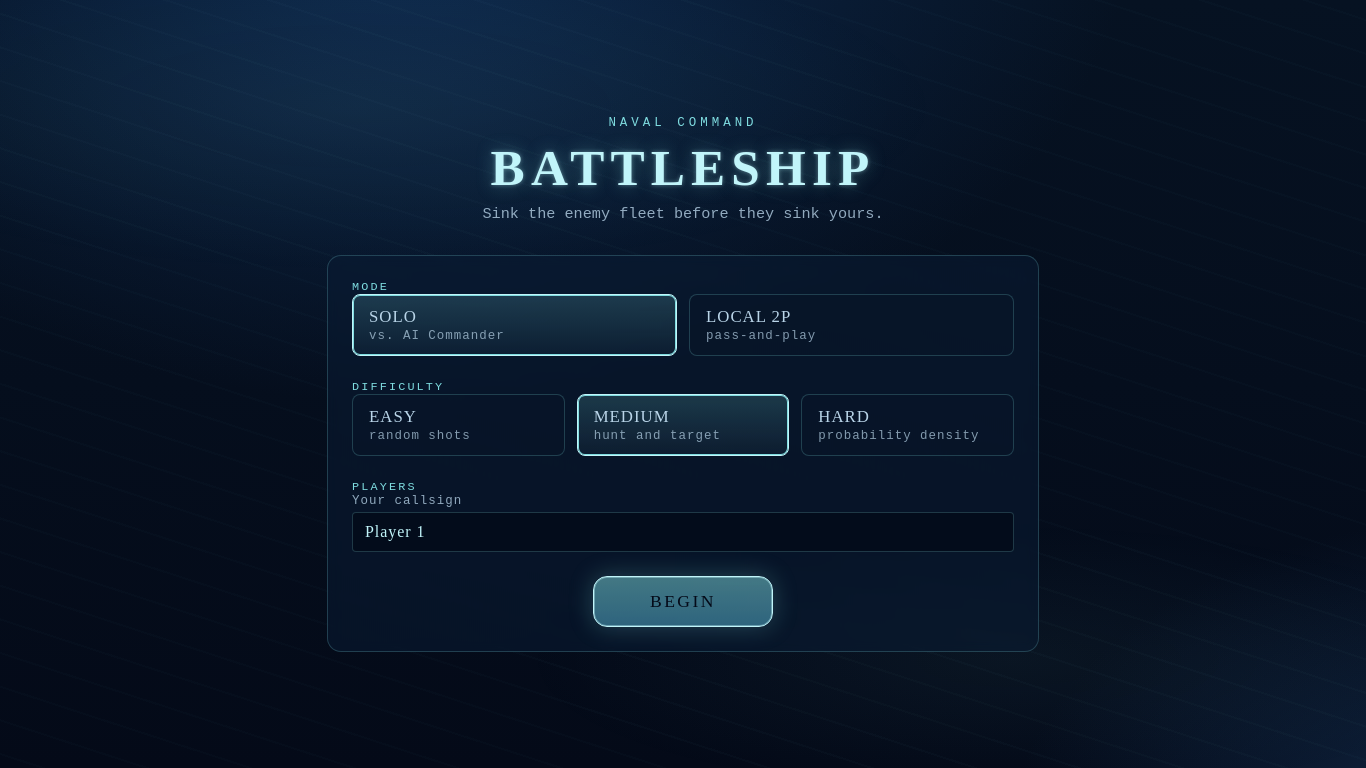
Test: Quit button (QA §5) › PlacementScreen: Quit returns to home with no placement persisted
Click the button with aria-label "begin placement". click: (683, 602)
box: [593,576,773,627]
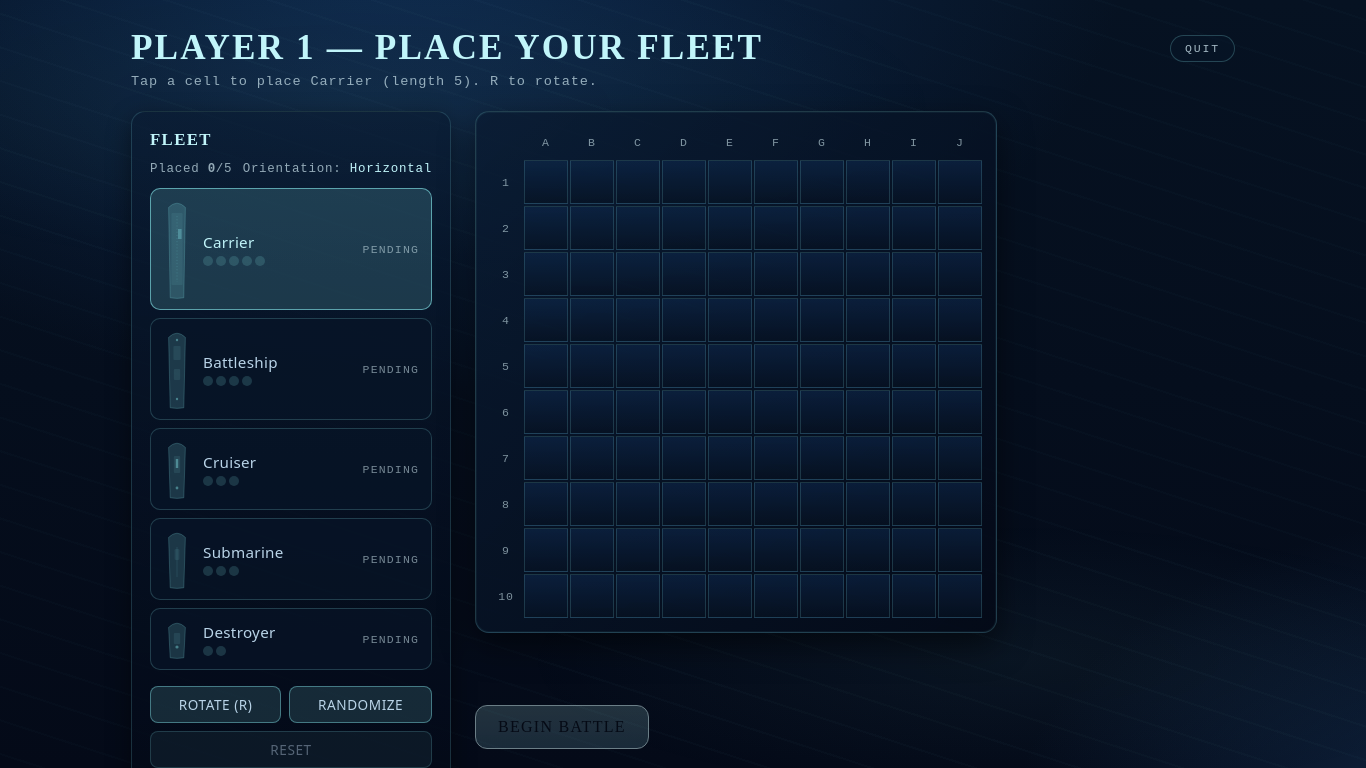
Click the button with aria-label "randomize fleet". click: (361, 704)
box: [289,686,432,723]
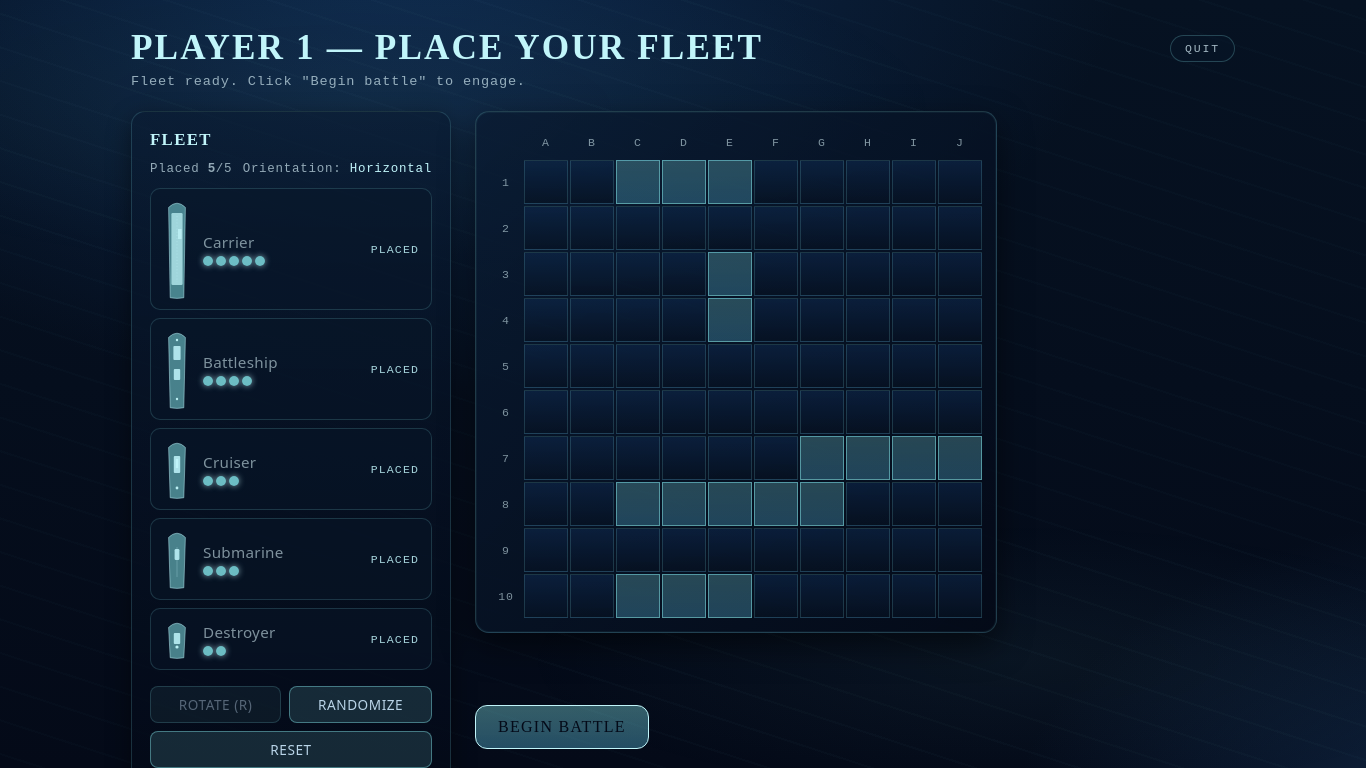
Click the button with aria-label "quit to home". click: (1202, 48)
box: [1170,34,1235,62]
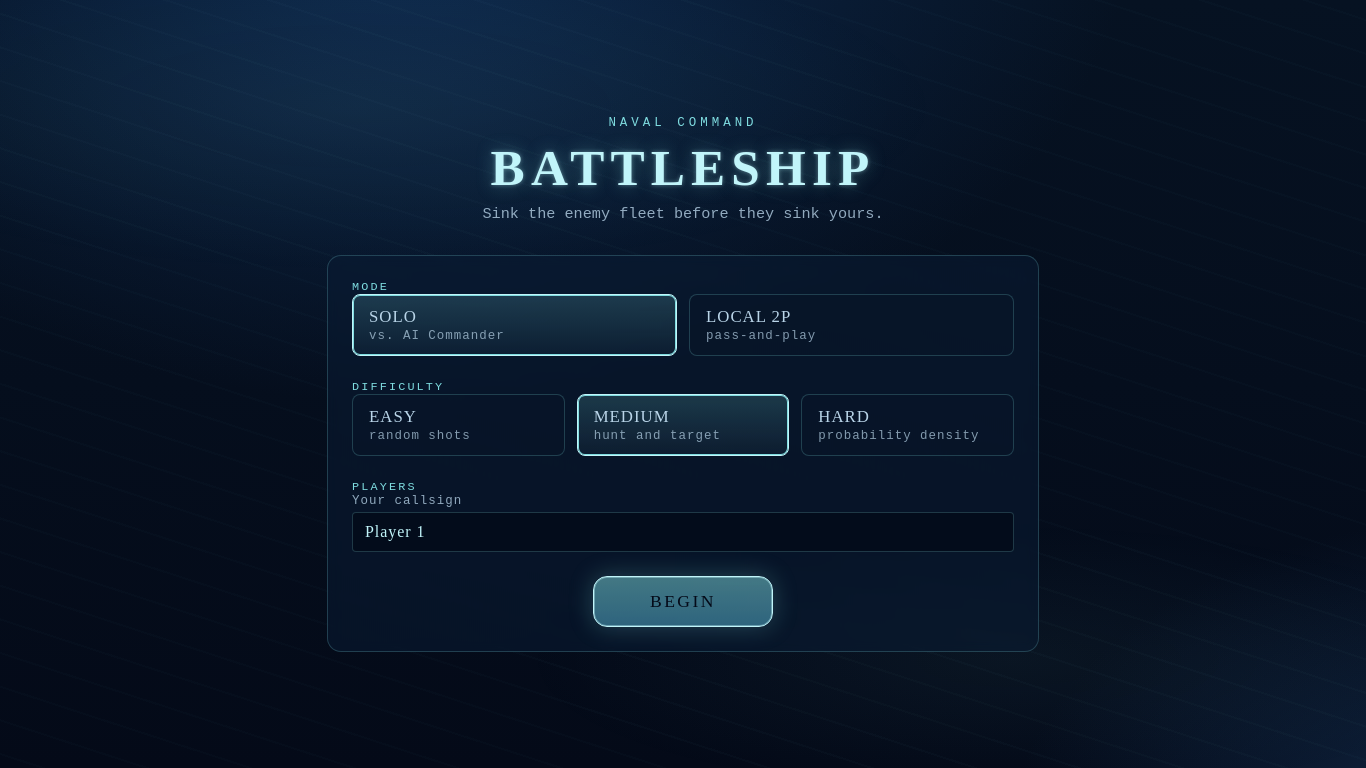
Expected: the element named "home" is shown, [303,84,1063,684]
# Re-entering placement starts with a fresh fleet (0 placed).
Click the button with aria-label "begin placement". click: (683, 602)
box: [593,576,773,627]
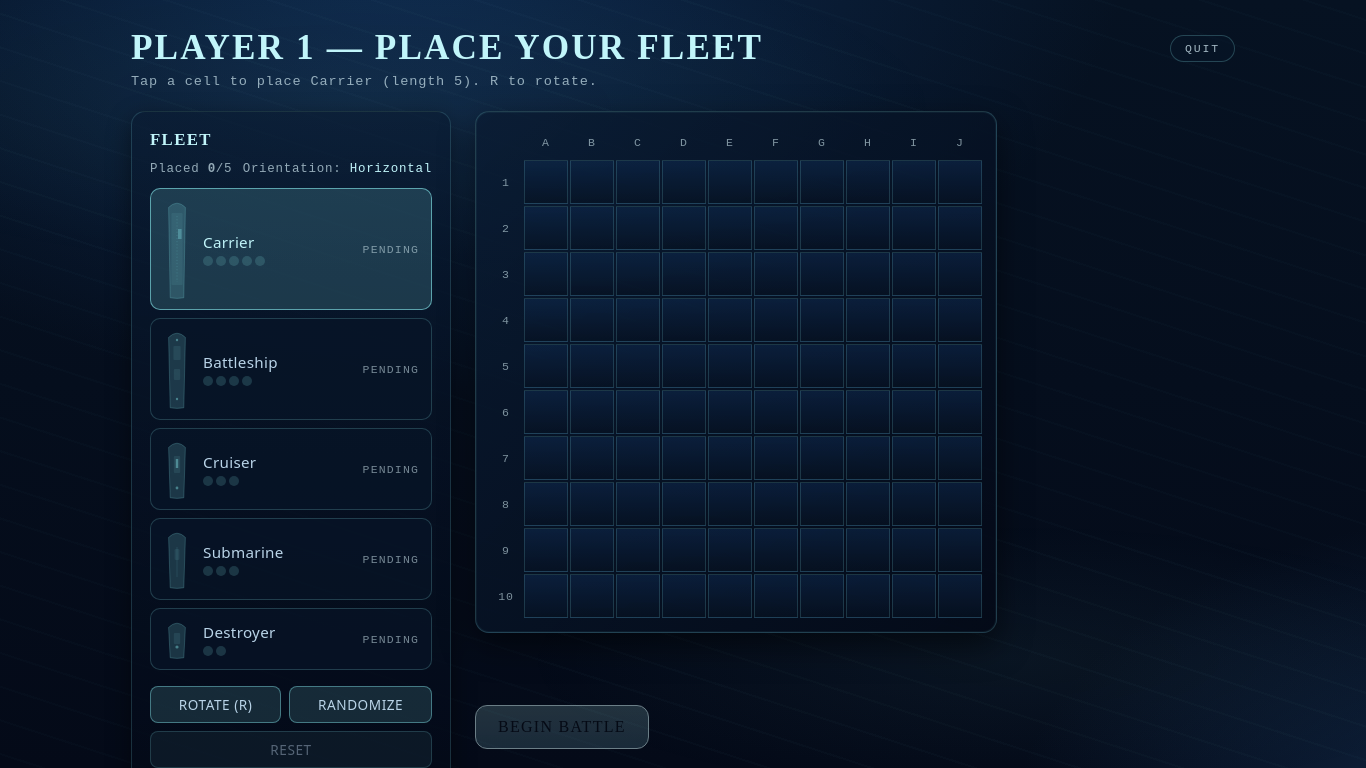
Expected: the text "Placed 0/5" is shown, [150,162,232,176]
